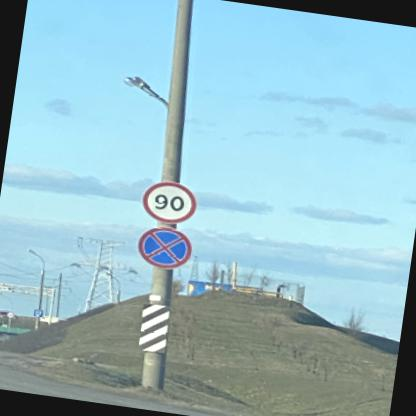speedlimit: (136, 176, 198, 224)
